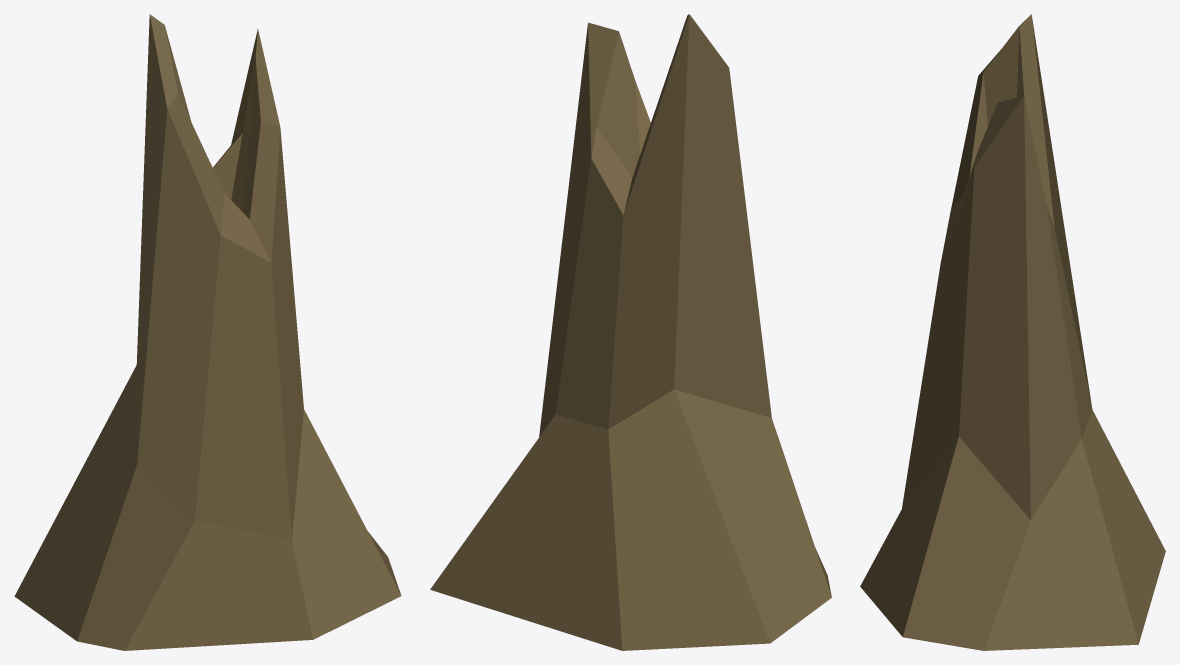
The model's file is Stump_1.fbx.
3 views of the same model, side by side, from view 1: azimuth 30°, elevation 25°; view 2: azimuth 150°, elevation 25°; view 3: azimuth 270°, elevation 25° (orthographic). The views are drawn at different scales.
Visible parts, largest first — view 1: Stump_1; view 2: Stump_1; view 3: Stump_1.
Boxes of the visible parts, bbox=[...] form: Stump_1: bbox=[14, 14, 401, 650]; Stump_1: bbox=[430, 14, 831, 650]; Stump_1: bbox=[860, 14, 1165, 650].
Bounding box in the file's own units: 68.94 × 118 × 60.82.
